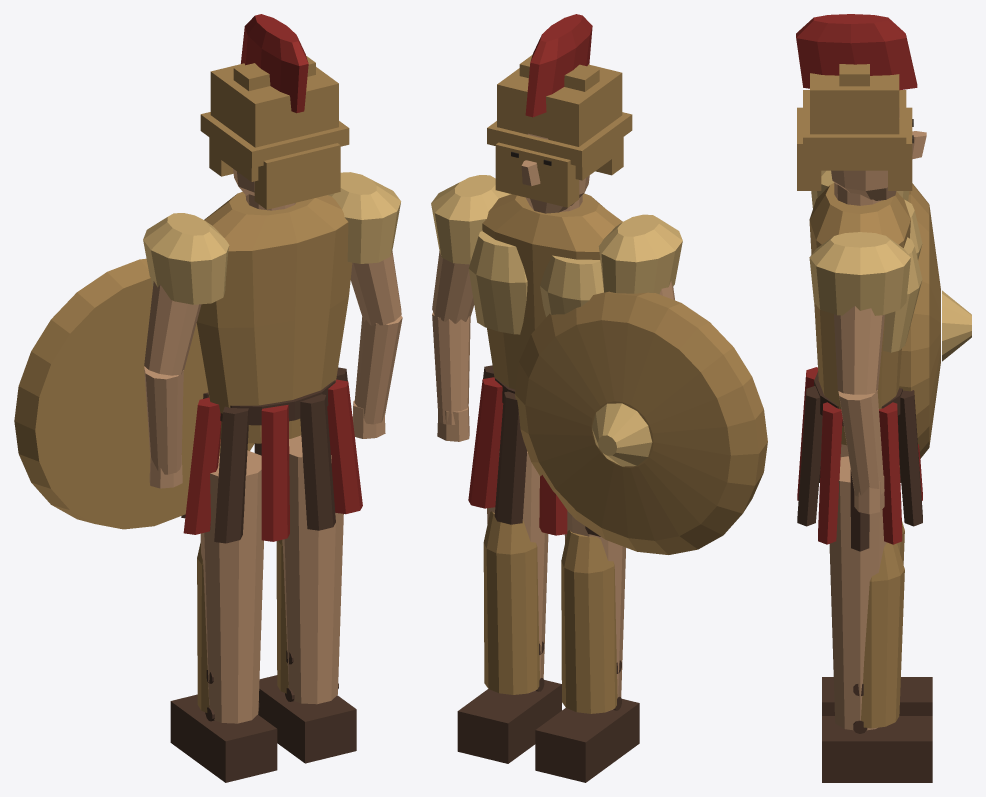
Rendered from gate-achilles.glb.
3 renders of one model, left to right at view 1: azimuth 30°, elevation 25°; view 2: azimuth 150°, elevation 25°; view 3: azimuth 270°, elevation 25°, orthographic. The views are drawn at different scales.
Parts seen in each view (by area): view 1: achilles_round_shield, achilles_torso, achilles_bronze_helmet, achilles_calfL, achilles_calfR, achilles_pauldron-1, achilles_sandalL, achilles_sandalR, achilles_pauldron1, achilles_red_crest, achilles_leather_pteruges3, achilles_leather_pteruges2 (+11 smaller); view 2: achilles_round_shield, achilles_bronze_helmet, achilles_greave-0.1, achilles_torso, achilles_greave0.1, achilles_sandalL, achilles_sandalR, achilles_pauldron-1, achilles_chest_plate1, achilles_pauldron1, achilles_red_crest, achilles_forearmR (+9 smaller); view 3: achilles_bronze_helmet, achilles_calfR, achilles_pauldron1, achilles_torso, achilles_sandalR, achilles_red_crest, achilles_greave0.1, achilles_round_shield, achilles_upper_armR, achilles_forearmR, achilles_leather_pteruges1, achilles_leather_pteruges2 (+14 smaller).
Part boxes in pixels (x1,y1,x2,y2): achilles_round_shield: (14, 258, 254, 529); achilles_torso: (196, 191, 352, 443); achilles_bronze_helmet: (200, 56, 349, 209); achilles_calfL: (200, 450, 263, 723); achilles_calfR: (282, 435, 343, 704); achilles_pauldron-1: (143, 213, 229, 304); achilles_sandalL: (170, 694, 277, 782); achilles_sandalR: (258, 675, 356, 763); achilles_pauldron1: (328, 172, 400, 263); achilles_red_crest: (240, 14, 308, 113); achilles_leather_pteruges3: (261, 404, 289, 541); achilles_leather_pteruges2: (300, 394, 335, 530); achilles_round_shield: (515, 291, 767, 554); achilles_bronze_helmet: (487, 55, 632, 207); achilles_greave-0.1: (561, 530, 617, 713); achilles_torso: (482, 193, 622, 389); achilles_greave0.1: (483, 511, 539, 694); achilles_sandalL: (535, 699, 639, 782); achilles_sandalR: (457, 680, 561, 763); achilles_pauldron-1: (598, 214, 682, 294); achilles_chest_plate1: (468, 231, 527, 334); achilles_pauldron1: (431, 175, 511, 264); achilles_red_crest: (525, 14, 592, 117); achilles_forearmR: (432, 312, 470, 424); achilles_bronze_helmet: (797, 64, 912, 190); achilles_calfR: (829, 456, 886, 730); achilles_pauldron1: (809, 232, 910, 315); achilles_torso: (809, 183, 910, 445); achilles_sandalR: (822, 716, 932, 782); achilles_red_crest: (796, 14, 917, 90); achilles_greave0.1: (861, 542, 904, 728); achilles_round_shield: (899, 183, 940, 466); achilles_upper_armR: (834, 306, 884, 394); achilles_forearmR: (838, 390, 884, 496); achilles_leather_pteruges1: (818, 402, 842, 544); achilles_leather_pteruges2: (797, 386, 822, 526).
Size of the model in its own units: 0.9037 by 1.75 by 0.3809.
